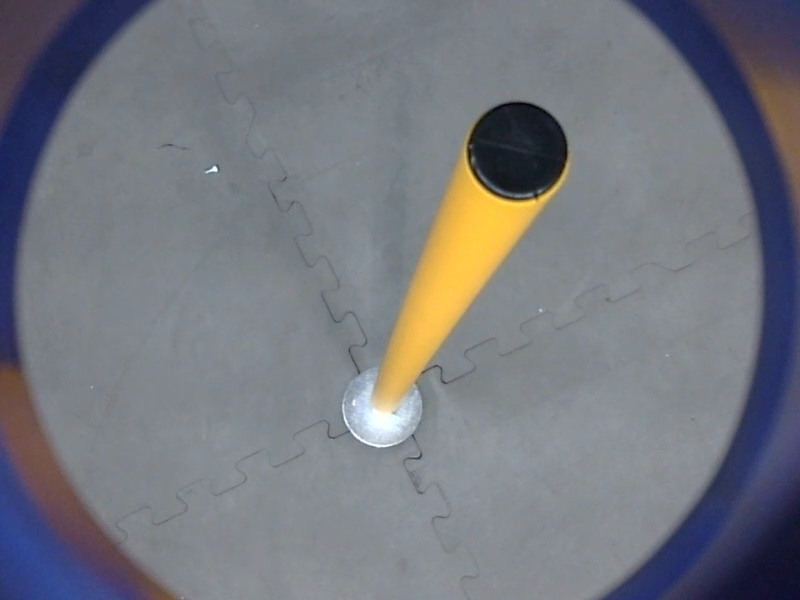tip: (461, 95, 575, 208)
